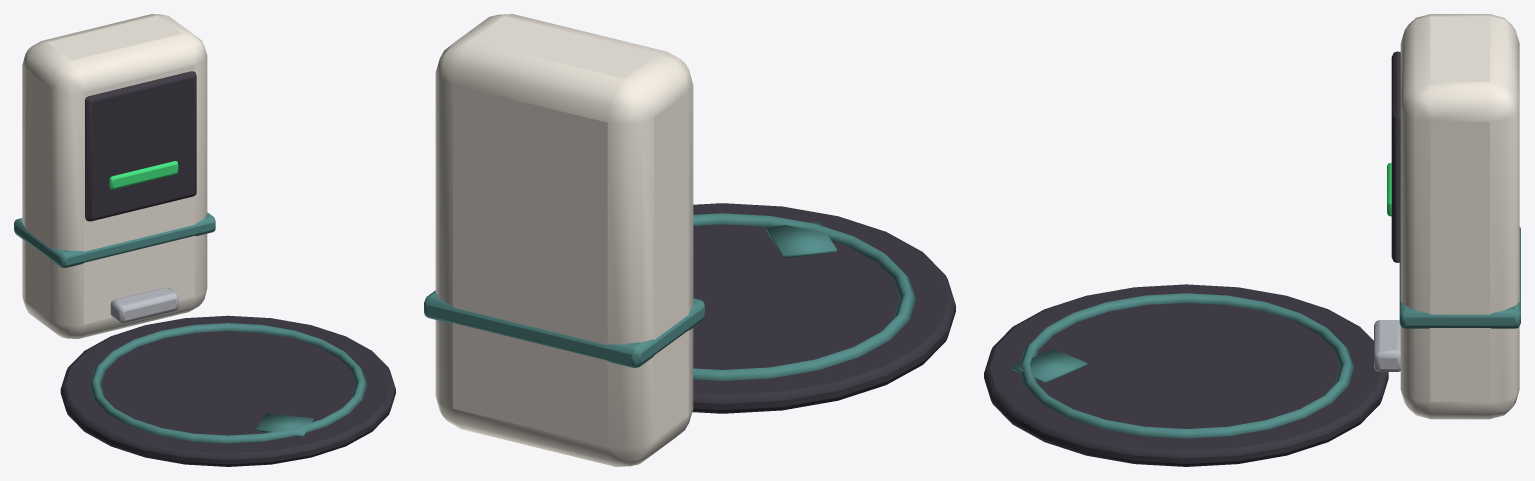
Rendered from office_robot_l1.glb.
3 views of the same model, side by side, from view 1: azimuth 30°, elevation 25°; view 2: azimuth 150°, elevation 25°; view 3: azimuth 270°, elevation 25° (orthographic). The views are drawn at different scales.
Visible parts, largest first — view 1: office_robot_l1, office_robot_charge_led; view 2: office_robot_l1; view 3: office_robot_l1.
Boxes of the visible parts, x1,y1,x2,y2 form: office_robot_l1: [14, 14, 395, 466]; office_robot_charge_led: [109, 161, 178, 189]; office_robot_l1: [424, 14, 955, 466]; office_robot_l1: [984, 14, 1520, 466].
Size of the model in its own units: 0.68 by 0.62 by 0.902.
